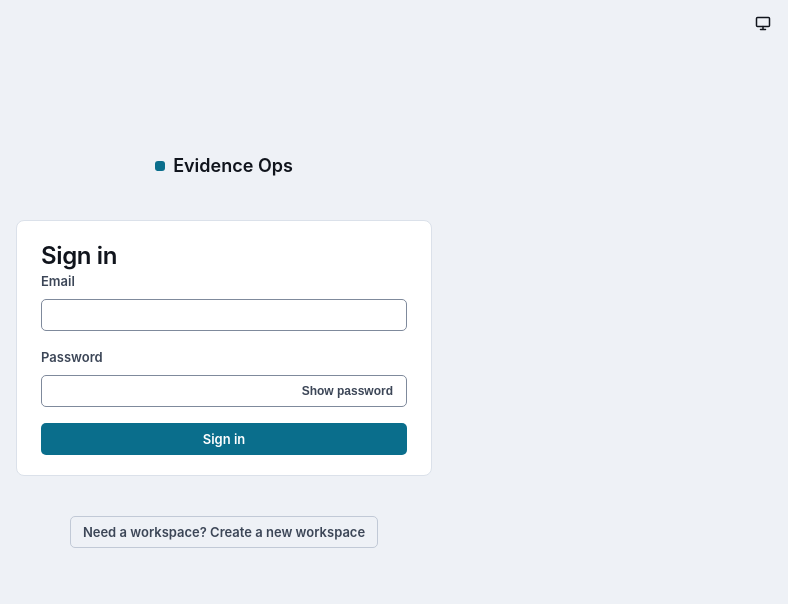
LoginPage › shows the server-authored reason for a rejected sign-in, verbatim
Step 1. Type "user@example.com" into the field labelled "Email" → (224, 315), box [41,299,407,331]
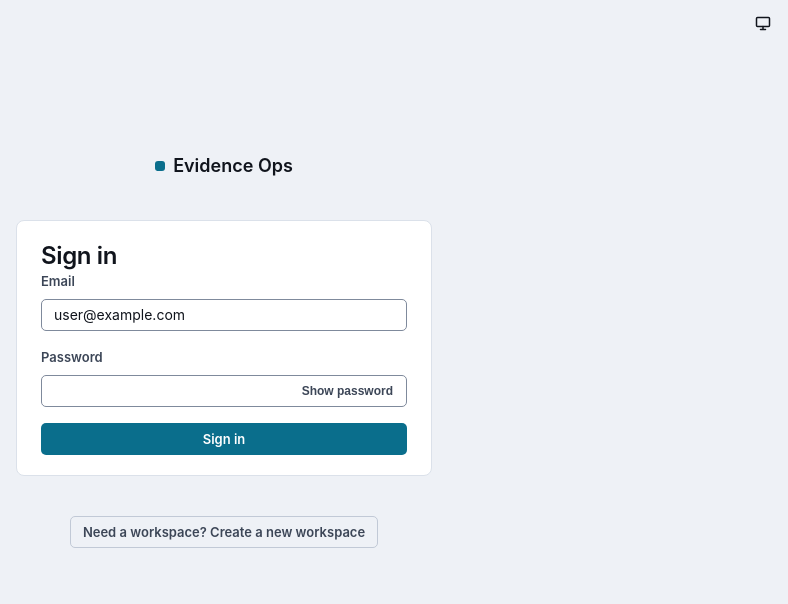
Step 2. Type "wrong-password" into the password field labelled "Password" → (224, 391), box [41,375,407,407]
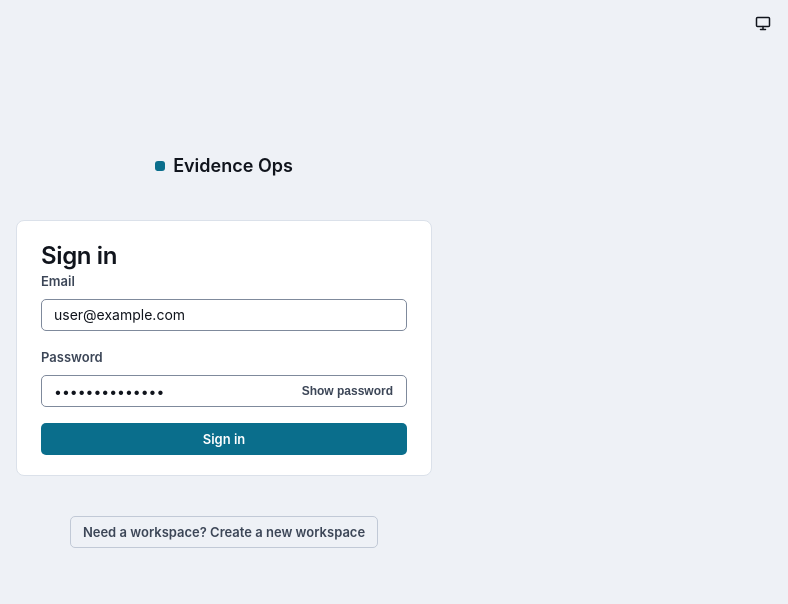
Step 3. Click the button "Sign in" → click(224, 439), box [41,423,407,455]
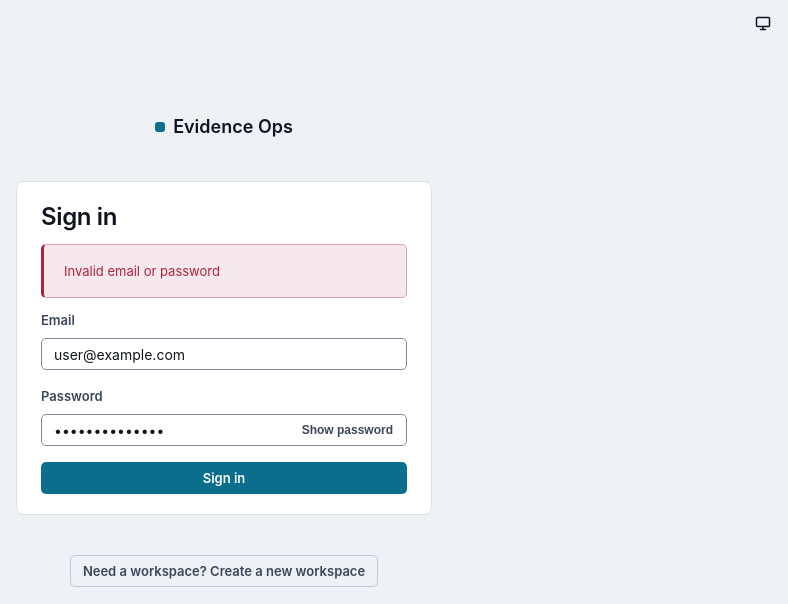
Check: the message reads "Invalid email or password", box [64,263,220,279]
